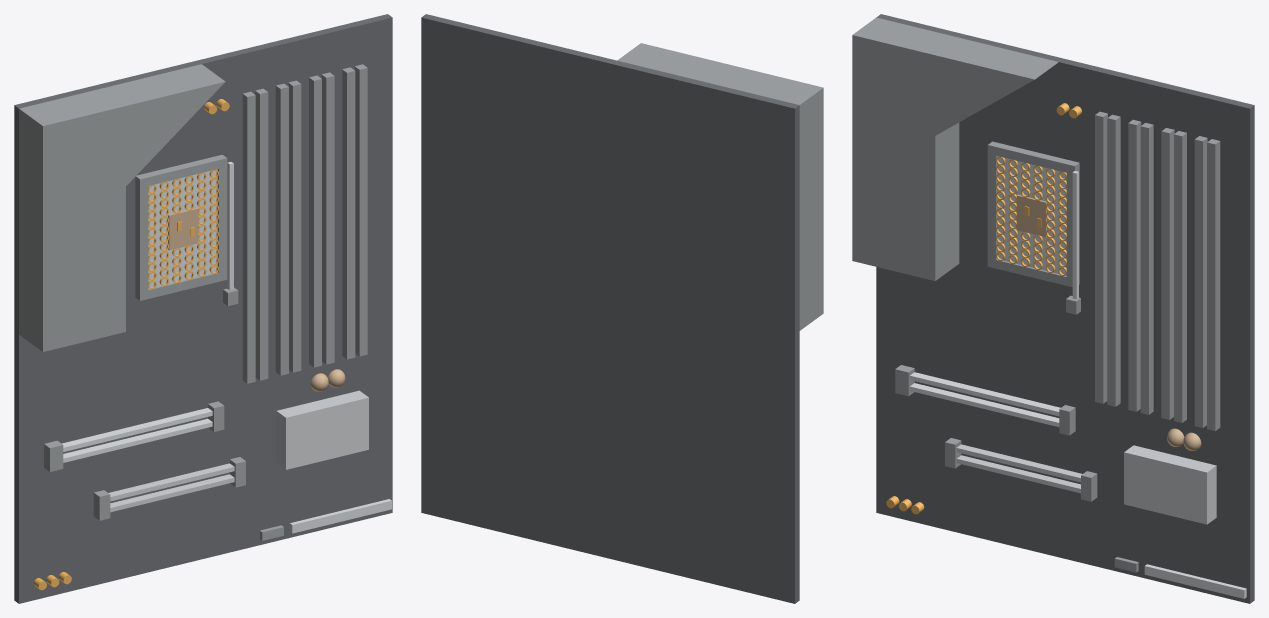
Rendered from low-poly_motherboard.glb.
3 views of the same model, side by side, from view 1: azimuth 30°, elevation 25°; view 2: azimuth 150°, elevation 25°; view 3: azimuth 330°, elevation 25° (orthographic).
Visible parts, largest first — view 1: Object_6, Object_7, Object_4, Object_2, Object_5, Object_3; view 2: Object_6, Object_7; view 3: Object_6, Object_7, Object_4, Object_2, Object_5, Object_3.
Part boxes in pixels (x1=…): Object_6: x1=14, y1=14, x2=392, y2=603; Object_7: x1=19, y1=64, x2=367, y2=540; Object_4: x1=62, y1=161, x2=391, y2=533; Object_2: x1=108, y1=390, x2=368, y2=512; Object_5: x1=34, y1=99, x2=229, y2=590; Object_3: x1=168, y1=208, x2=345, y2=391; Object_6: x1=421, y1=14, x2=799, y2=603; Object_7: x1=617, y1=43, x2=823, y2=330; Object_6: x1=876, y1=14, x2=1254, y2=603; Object_7: x1=852, y1=17, x2=1220, y2=572; Object_4: x1=910, y1=156, x2=1246, y2=598; Object_2: x1=956, y1=444, x2=1216, y2=524; Object_5: x1=886, y1=103, x2=1081, y2=514; Object_3: x1=1016, y1=194, x2=1201, y2=450.
Size of the model in its own units: 3.32 by 4.21 by 0.4427.
